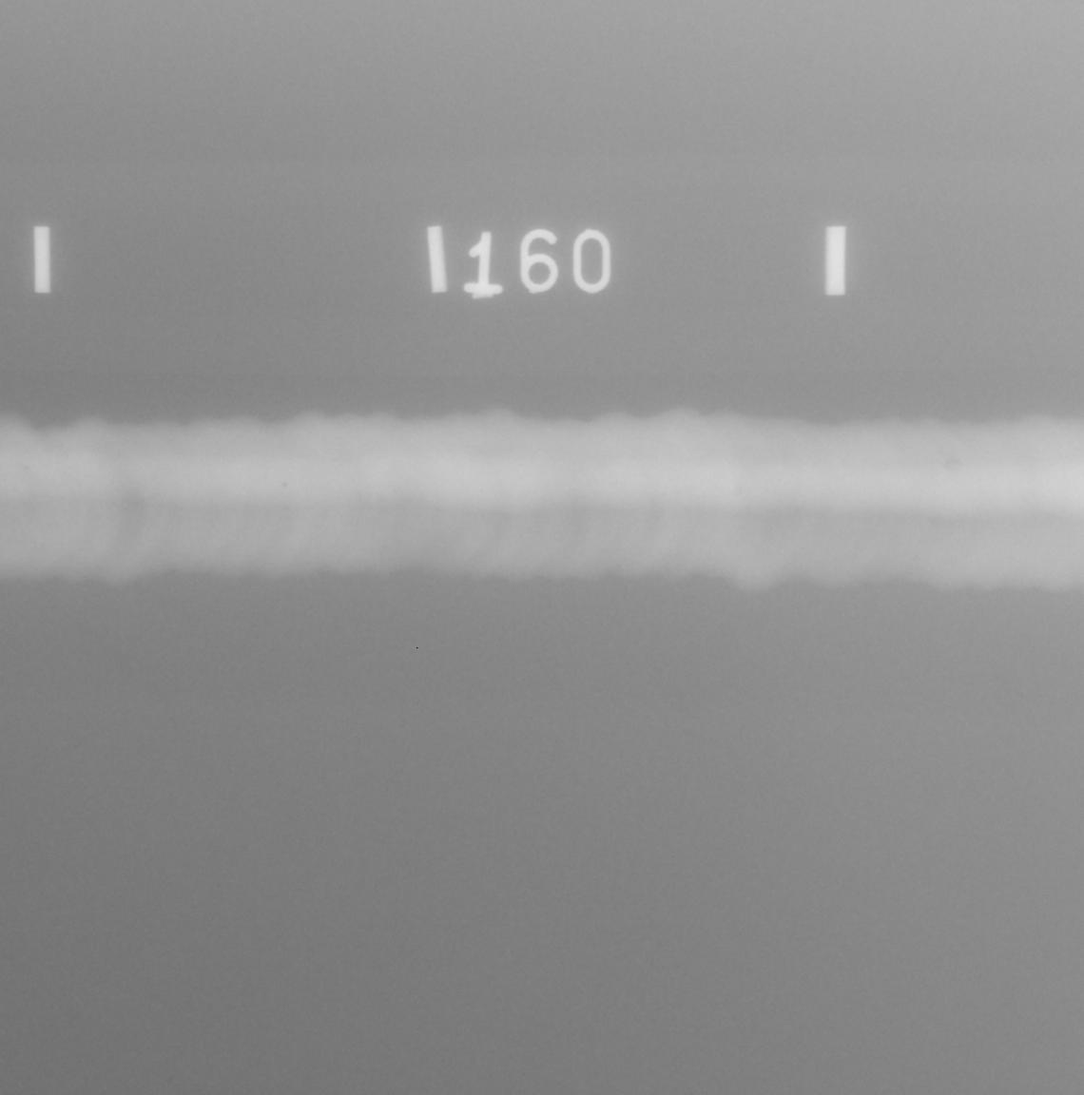Inclusion: (943, 458, 961, 468)
Pore/Porosity: (134, 500, 144, 505), (282, 482, 287, 487), (25, 466, 29, 469)
